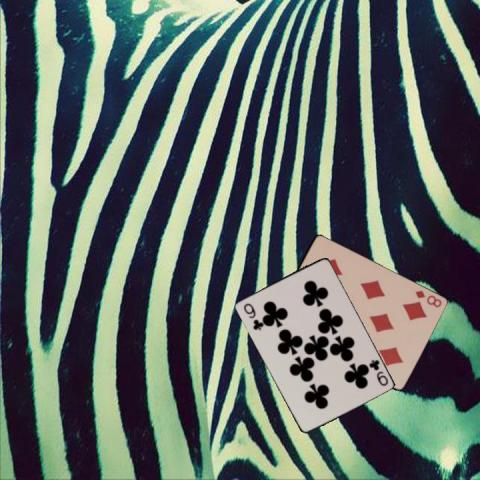8d: (412, 287, 443, 310)
9c: (366, 357, 390, 387), (240, 300, 263, 331)
